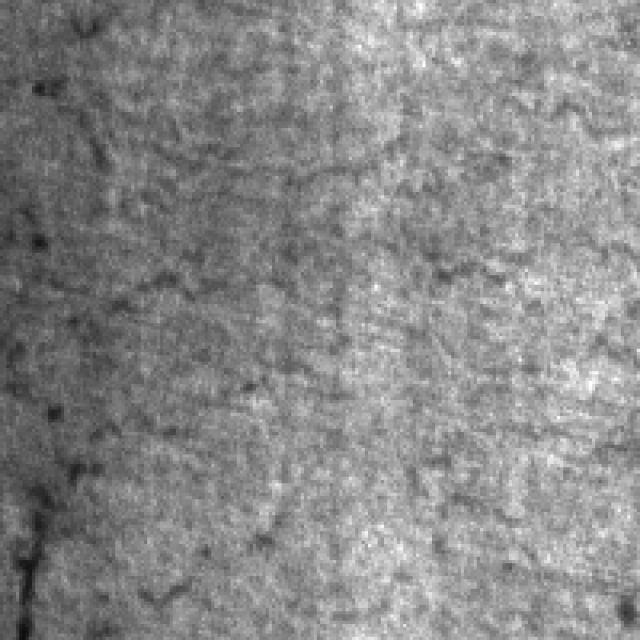crazing: (96, 84, 637, 438)
